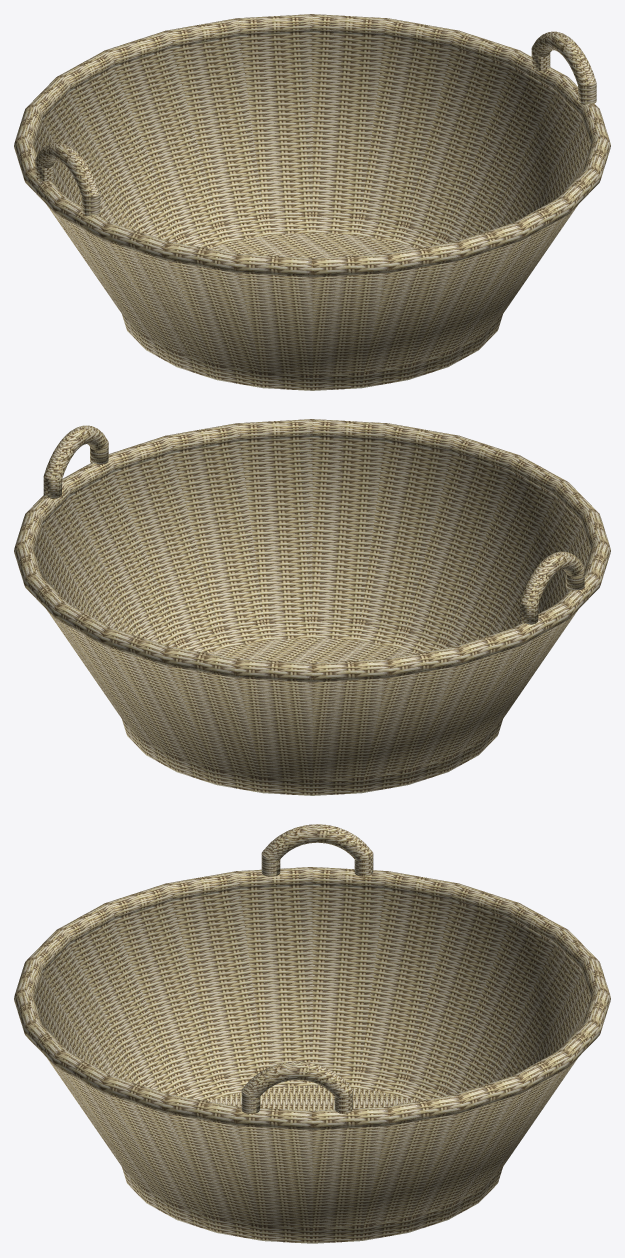
File: basket.dae
The picture shows the model from 3 angles, top to bottom: view 1: azimuth 30°, elevation 25°; view 2: azimuth 150°, elevation 25°; view 3: azimuth 270°, elevation 25°; orthographic projection.
Visible parts, largest first — view 1: SketchUp, fül (×2); view 2: SketchUp, fül (×2); view 3: SketchUp, fül (×2).
Boxes of the visible parts, left/top/right/bottom form: SketchUp: left=14, top=14, right=610, bottom=390; fül (×2): left=35, top=31, right=596, bottom=215; SketchUp: left=14, top=419, right=610, bottom=795; fül (×2): left=43, top=425, right=584, bottom=624; SketchUp: left=14, top=867, right=610, bottom=1243; fül (×2): left=241, top=824, right=373, bottom=1113.
Bounding box in the file's own units: 37.96 × 37.96 × 15.4.
2 materials, 2 textured.
